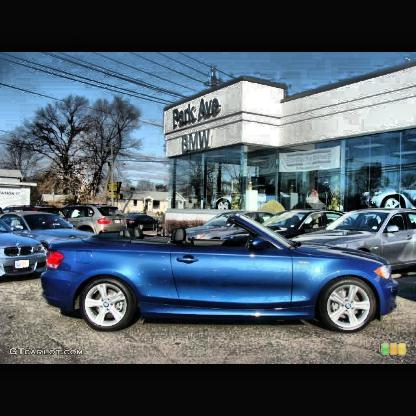BMW 1 Series Convertible 2012: (43, 215, 397, 333)
